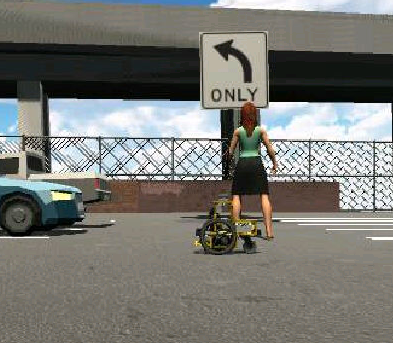arrow_left: (209, 36, 254, 85)
